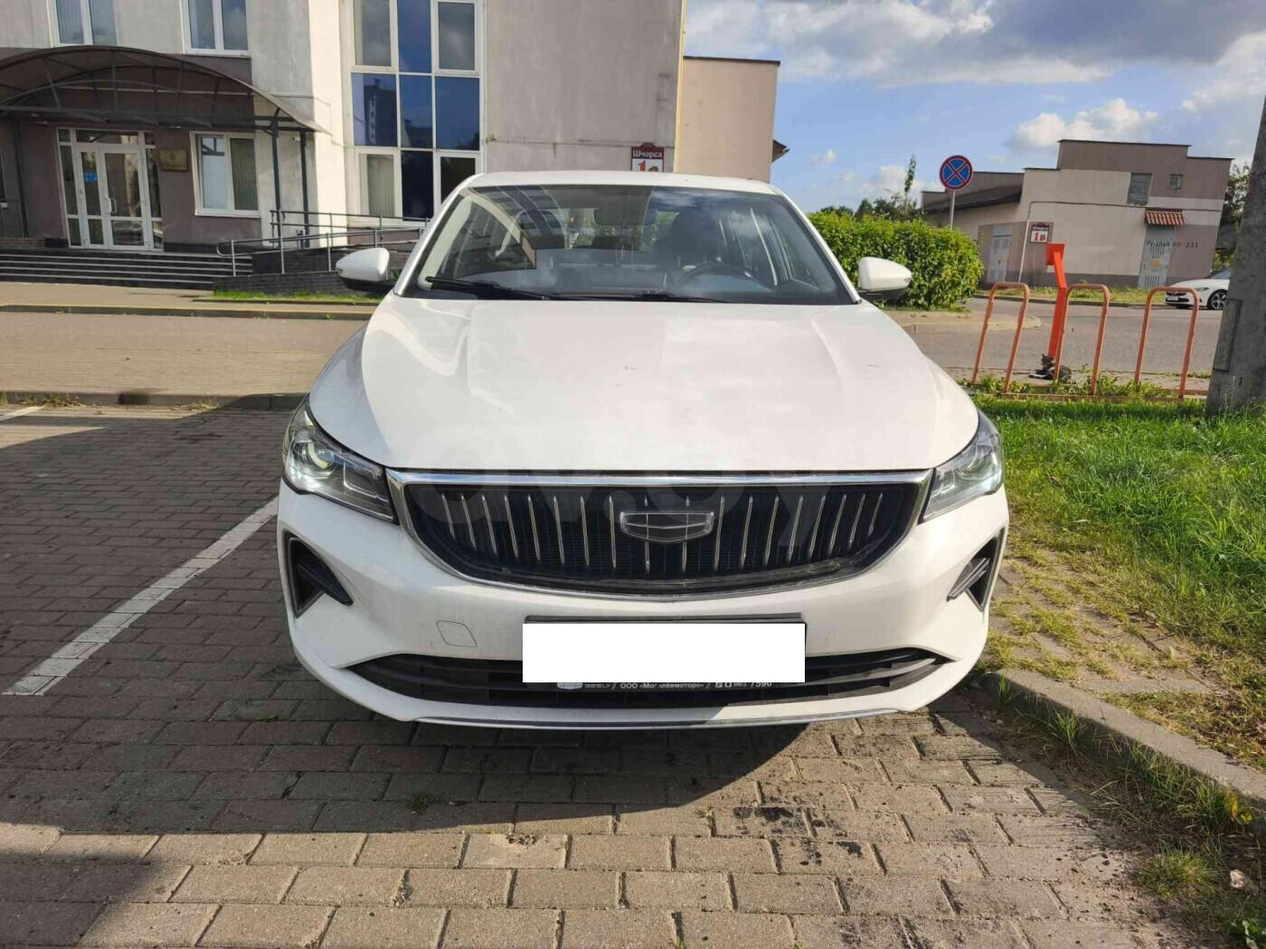Emgrand_2021: (275, 159, 1019, 740)
